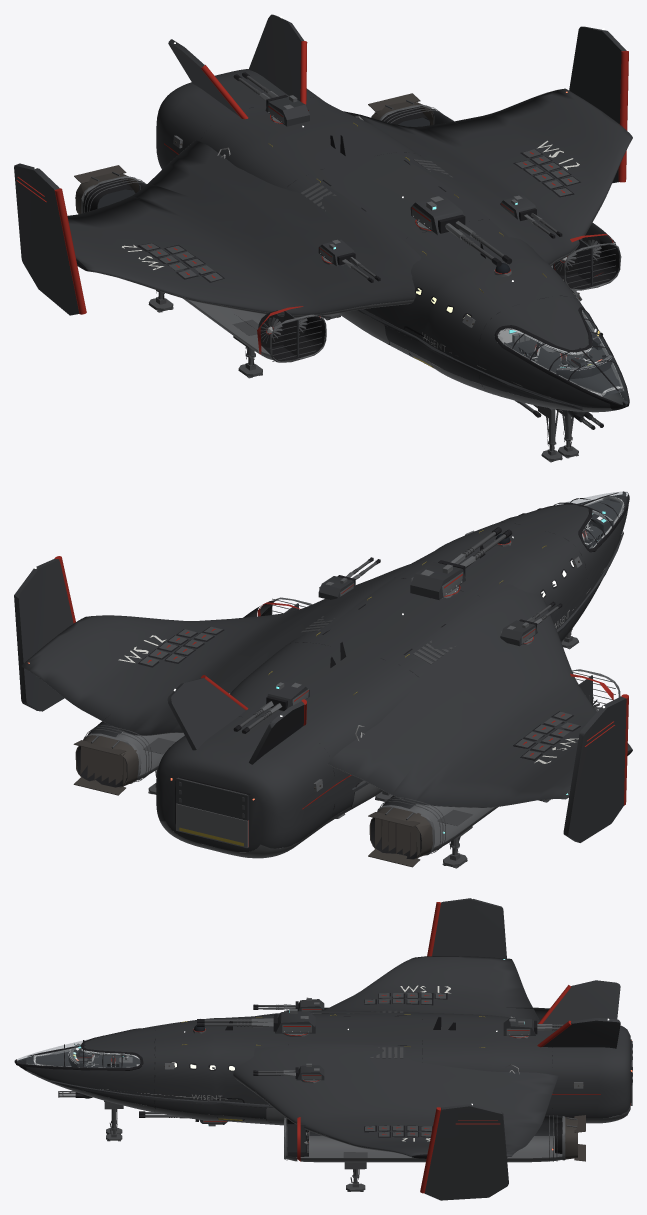
File: WisentFern.glb
3 views of the same model, one above another, from view 1: azimuth 30°, elevation 25°; view 2: azimuth 150°, elevation 25°; view 3: azimuth 270°, elevation 25° (orthographic). The views are drawn at different scales.
Visible parts, largest first — view 1: Fluegel links.001, Einlasstrennwand.002, Antenne.003, Abgasschlitz.020, Sichtband Glas.001, Einlassgitter.014, Austrittsgelaender.002, Block.006, Fahrwerkslicht.008, Zellendeckel.020, Duesenklappe.004, Brueckenboden.001 (+4 smaller); view 2: Fluegel links.001, Einlasstrennwand.002, Duesenklappe.004, Antenne.003, Einlassgitter.014, Block.006, Zellendeckel.020, Torblatt.001, Rampenaussenseite.001, Fahrwerkslicht.008, Sichtband Glas.001, Austrittsgelaender.002 (+2 smaller); view 3: Fluegel links.001, Einlasstrennwand.002, Antenne.003, Block.006, Sichtband Glas.001, Austrittsgelaender.002, Einlassgitter.014, Zellendeckel.020, Fahrwerkslicht.008, Brueckenboden.001, Duesenklappe.004, Anzeigestuetze.002.
Boxes of the visible parts, x1,y1,x2,y2 form: Fluegel links.001: (67,69,632,412); Einlasstrennwand.002: (14,14,626,417); Antenne.003: (137,72,629,429); Abgasschlitz.020: (83,106,619,366); Sichtband Glas.001: (498,310,627,404); Einlassgitter.014: (84,75,615,427); Austrittsgelaender.002: (16,41,628,364); Block.006: (81,91,621,427); Fahrwerkslicht.008: (148,290,578,462); Zellendeckel.020: (140,149,579,281); Duesenklappe.004: (74,93,580,324); Brueckenboden.001: (507,327,624,396); Fluegel links.001: (20,496,632,858); Einlasstrennwand.002: (14,531,626,842); Duesenklappe.004: (73,560,579,867); Antenne.003: (138,491,629,824); Einlassgitter.014: (85,530,615,853); Block.006: (83,530,620,855); Zellendeckel.020: (139,626,579,758); Torblatt.001: (176,778,248,820); Rampenaussenseite.001: (176,804,246,847); Fahrwerkslicht.008: (143,629,578,868); Sichtband Glas.001: (557,492,628,547); Austrittsgelaender.002: (54,530,628,809); Fluegel links.001: (17,956,630,1162); Einlasstrennwand.002: (50,898,620,1200); Antenne.003: (14,992,631,1137); Block.006: (62,997,583,1160); Sichtband Glas.001: (15,1039,139,1067); Austrittsgelaender.002: (78,902,600,1193); Einlassgitter.014: (58,1004,577,1161); Zellendeckel.020: (364,993,445,1136); Fahrwerkslicht.008: (104,1100,367,1191); Brueckenboden.001: (34,1051,140,1067); Duesenklappe.004: (164,1065,585,1161); Anzeigestuetze.002: (34,1043,133,1067).
Size of the model in its own units: 66.29 by 20.35 by 83.29.
